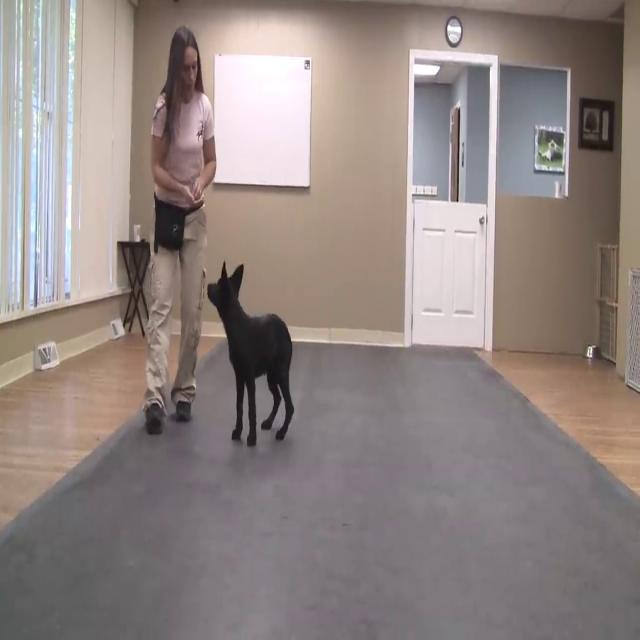Unleashed_Dog: (160, 210, 296, 448)
